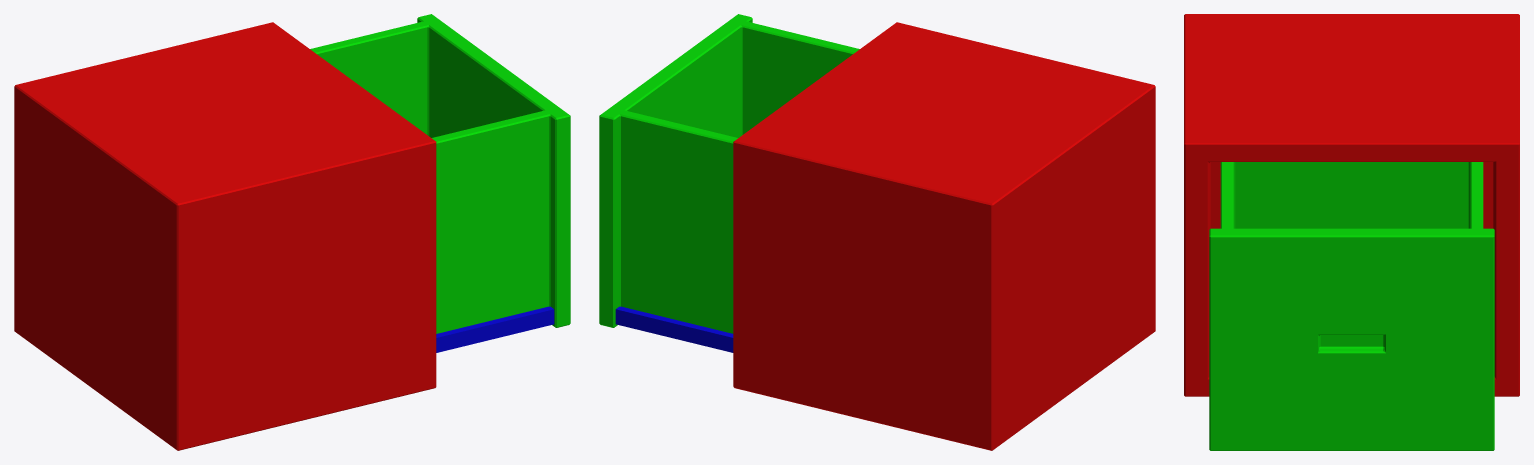
Rendered from 6drawer2.fbx.
3 views of the same model, side by side, from view 1: azimuth 30°, elevation 25°; view 2: azimuth 150°, elevation 25°; view 3: azimuth 270°, elevation 25° (orthographic). The views are drawn at different scales.
Visible parts, largest first — view 1: Cube.002; view 2: Cube.002; view 3: Cube.002.
Boxes of the visible parts, x1,y1,x2,y2 form: Cube.002: (14, 14, 570, 450); Cube.002: (599, 14, 1155, 450); Cube.002: (1184, 14, 1519, 450).
Bounding box in the file's own units: 344 × 200 × 240.
